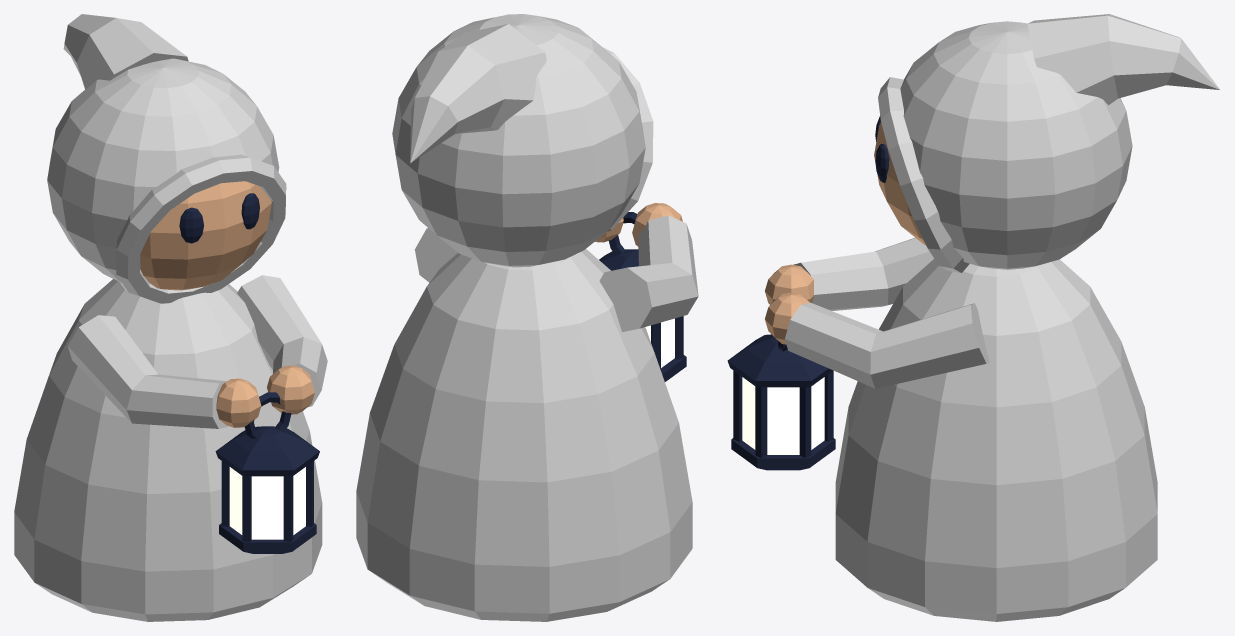
File: LanternKeeper.fbx
The picture shows the model from 3 angles, left to right: view 1: azimuth 30°, elevation 25°; view 2: azimuth 150°, elevation 25°; view 3: azimuth 270°, elevation 25°; orthographic projection. The views are drawn at different scales.
Parts seen in each view (by area): view 1: LanternKeeper, Lantern; view 2: LanternKeeper, Lantern; view 3: LanternKeeper, Lantern.
Part boxes in pixels (<box>): LanternKeeper: <box>14,14,327,621</box>; Lantern: <box>215,392,319,553</box>; LanternKeeper: <box>356,14,698,621</box>; Lantern: <box>599,212,686,381</box>; LanternKeeper: <box>765,14,1219,621</box>; Lantern: <box>727,334,835,470</box>.
Size of the model in its own units: 0.62 by 1.13 by 0.925.
